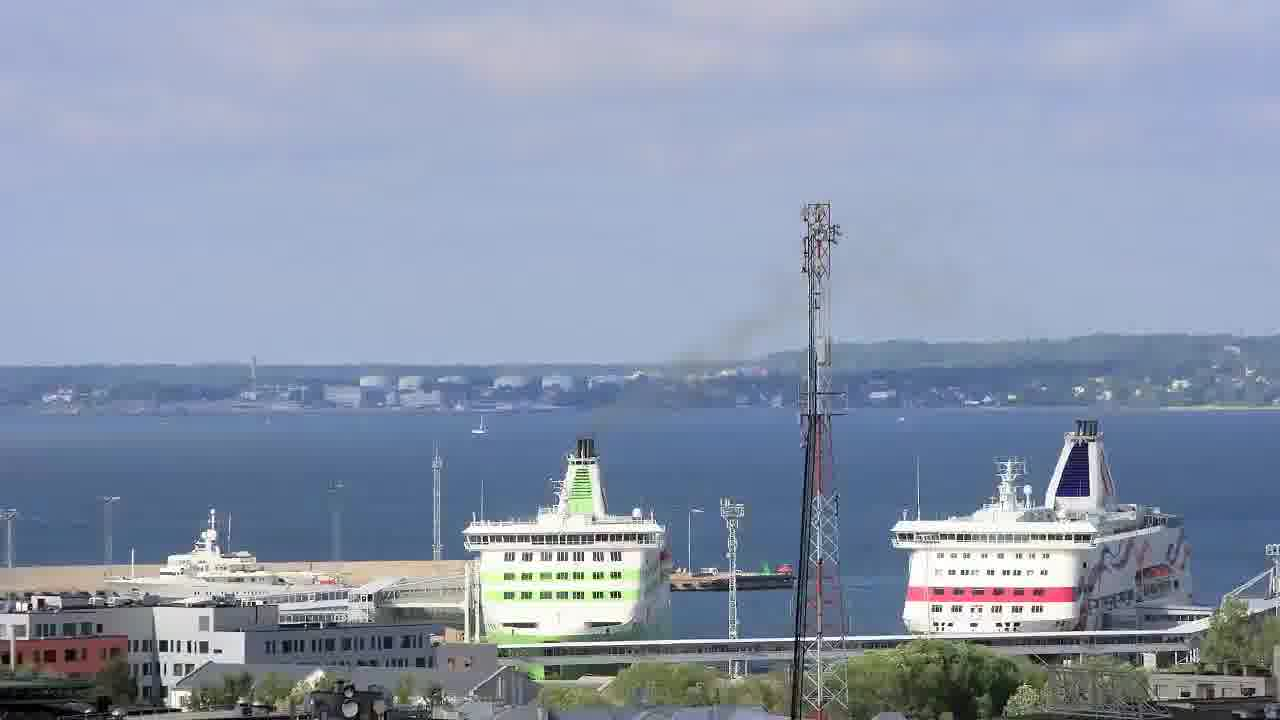type-2: (455, 404, 499, 446)
type-3: (868, 415, 1225, 638), (436, 434, 694, 670), (84, 511, 353, 609)
